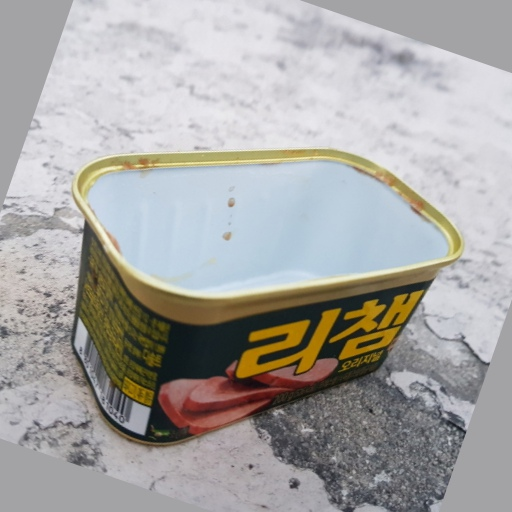Metal_2: (62, 148, 465, 450)
